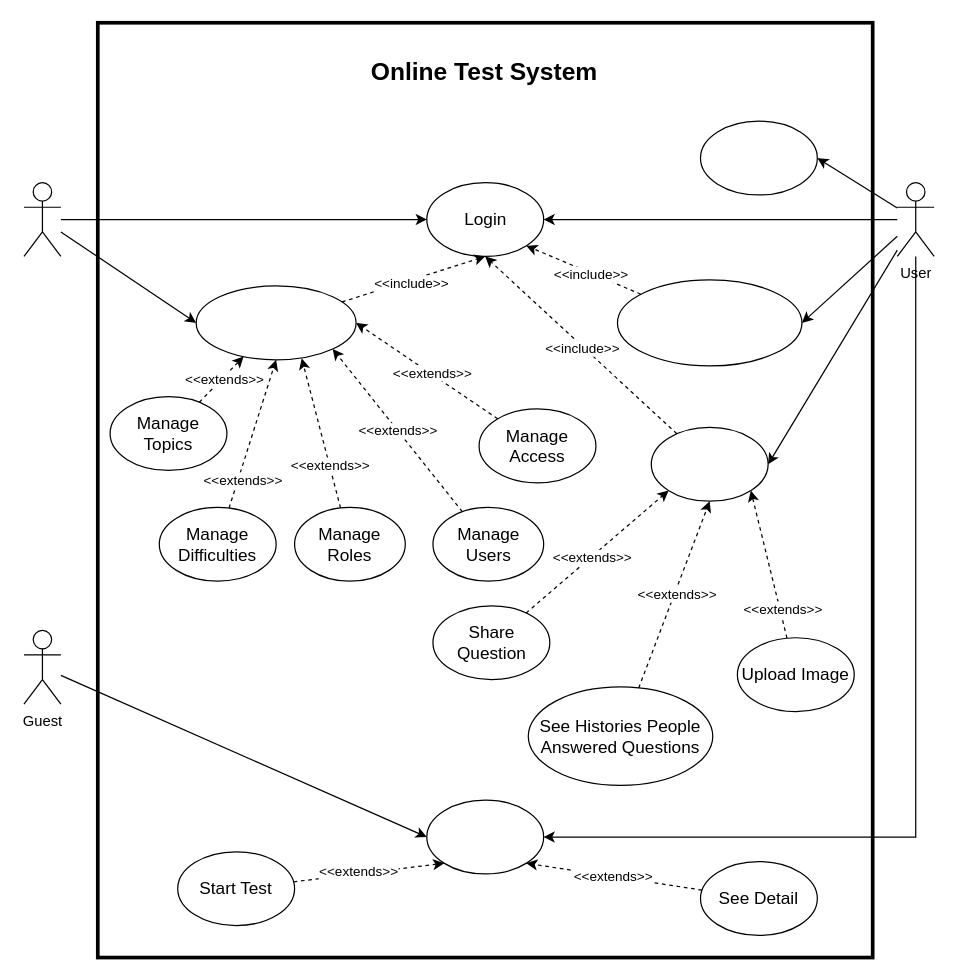
The diagram is 956 pixels wide and 980 high, and some of its shapes have lost their labels. Here are the shapes that lost their labels. From the top down, the centre of each, then its label:
At [758,157]: "Register".
At [42,218]: "Admin".
At [275,322]: "Manage Master Data".
At [709,322]: "See Histories Answered Question".
At [709,463]: "Manage Question".
At [485,836]: "See List Question".
